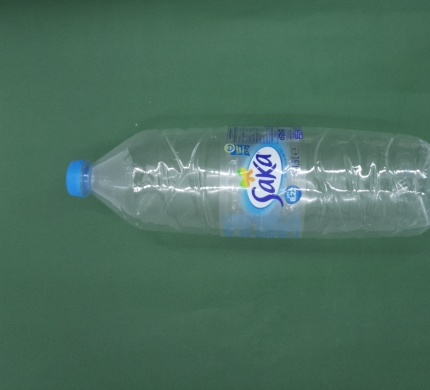plastic_bottle: (65, 125, 430, 241)
